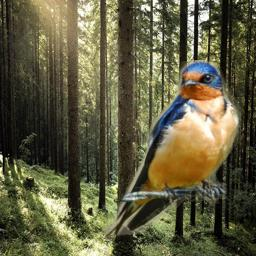Swallow: (104, 60, 241, 239)
